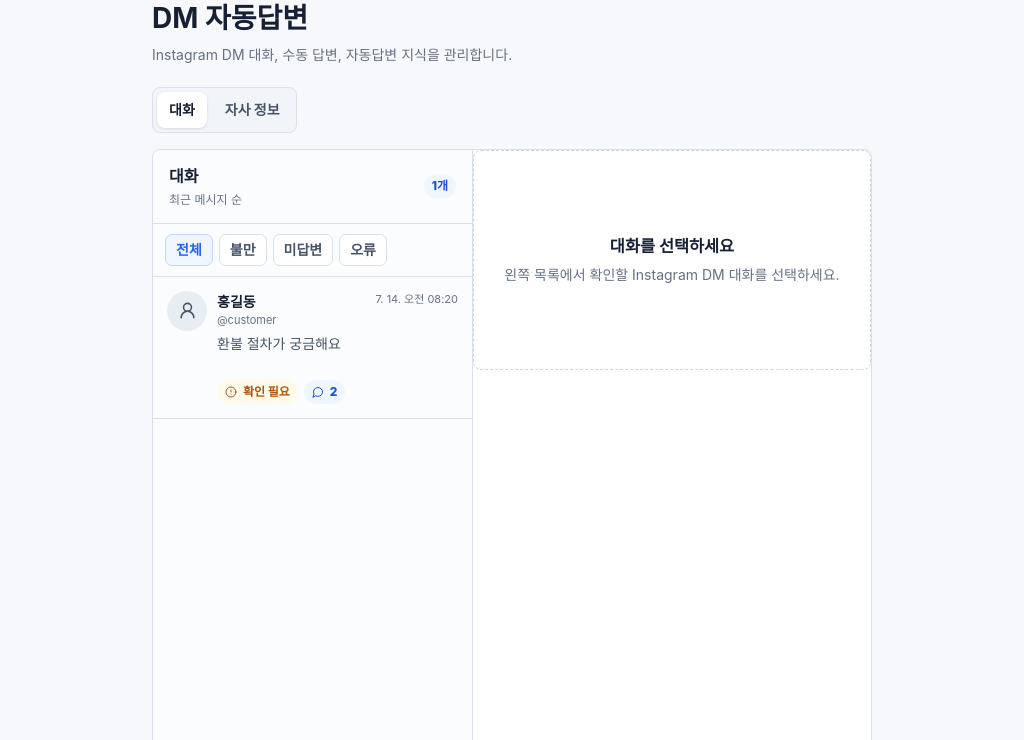
DmAutomationPage › shows a Korean manual reply error for dm_manual_reply_channel_not_ready
Click the button with aria-label "홍길동 대화 열기". click: (312, 348)
box: [153,277,472,419]
(page scrolled)
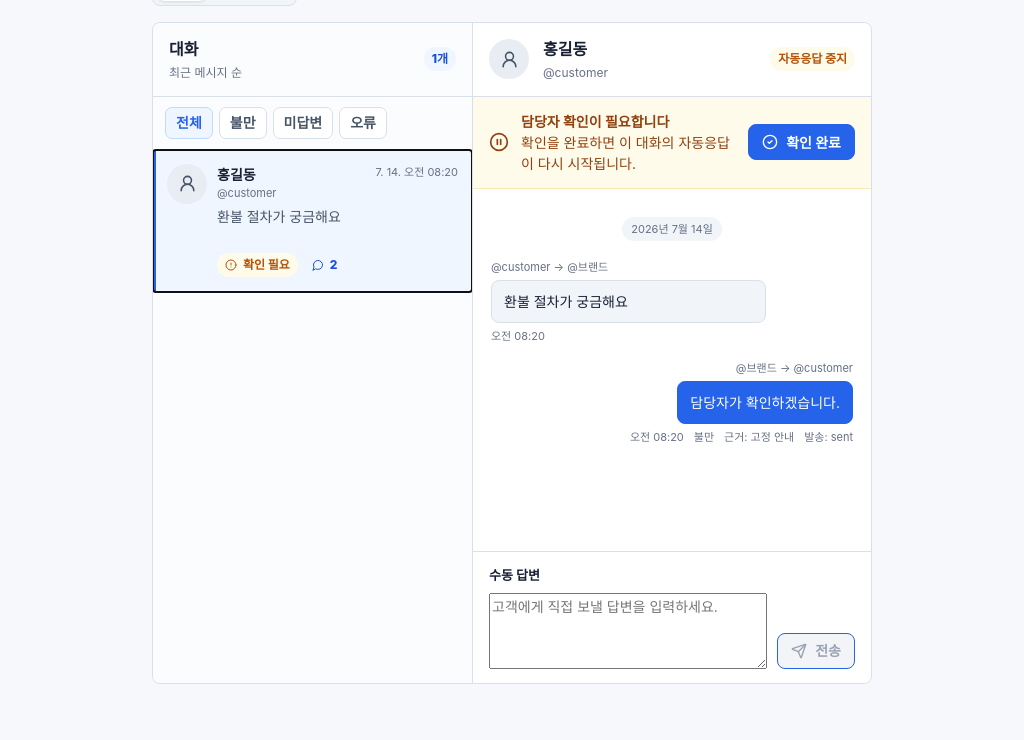
Type "직접 답변" into the text box labelled "수동 답변". click: (628, 631)
box: [489,593,767,669]
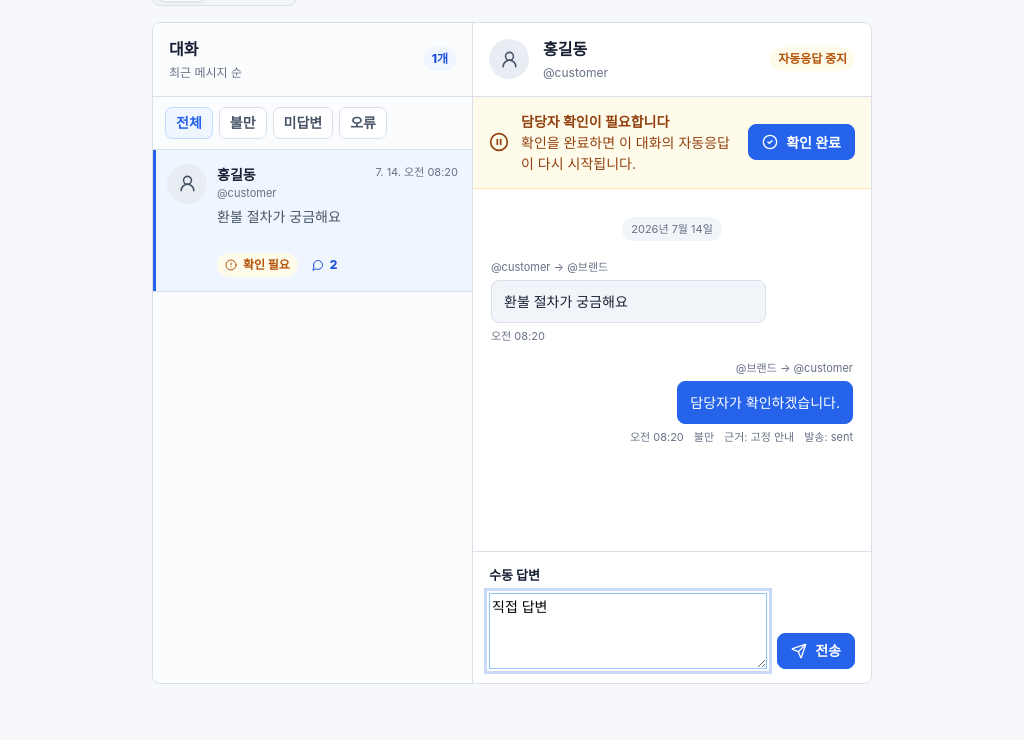
Click the button with aria-label "수동 답변 전송". click: (816, 651)
box: [777,633,855,669]
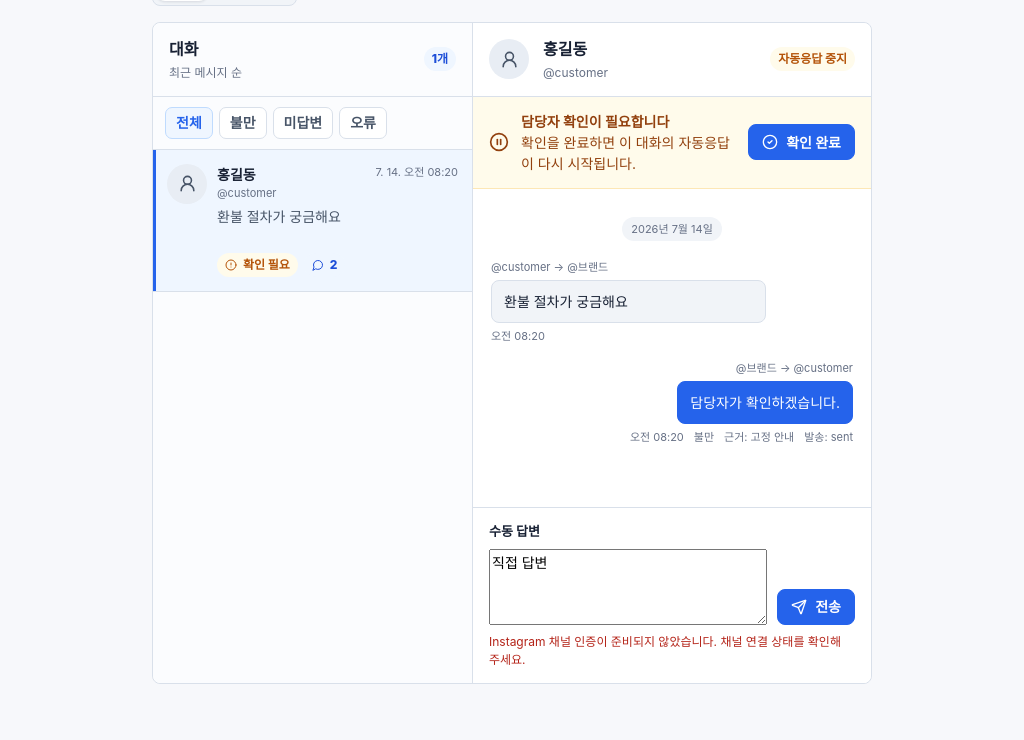
Now the message reads "Instagram 채널 인증이 준비되지 않았습니다. 채널 연결 상태를 확인해 주세요.", box [489,634,841,667]
